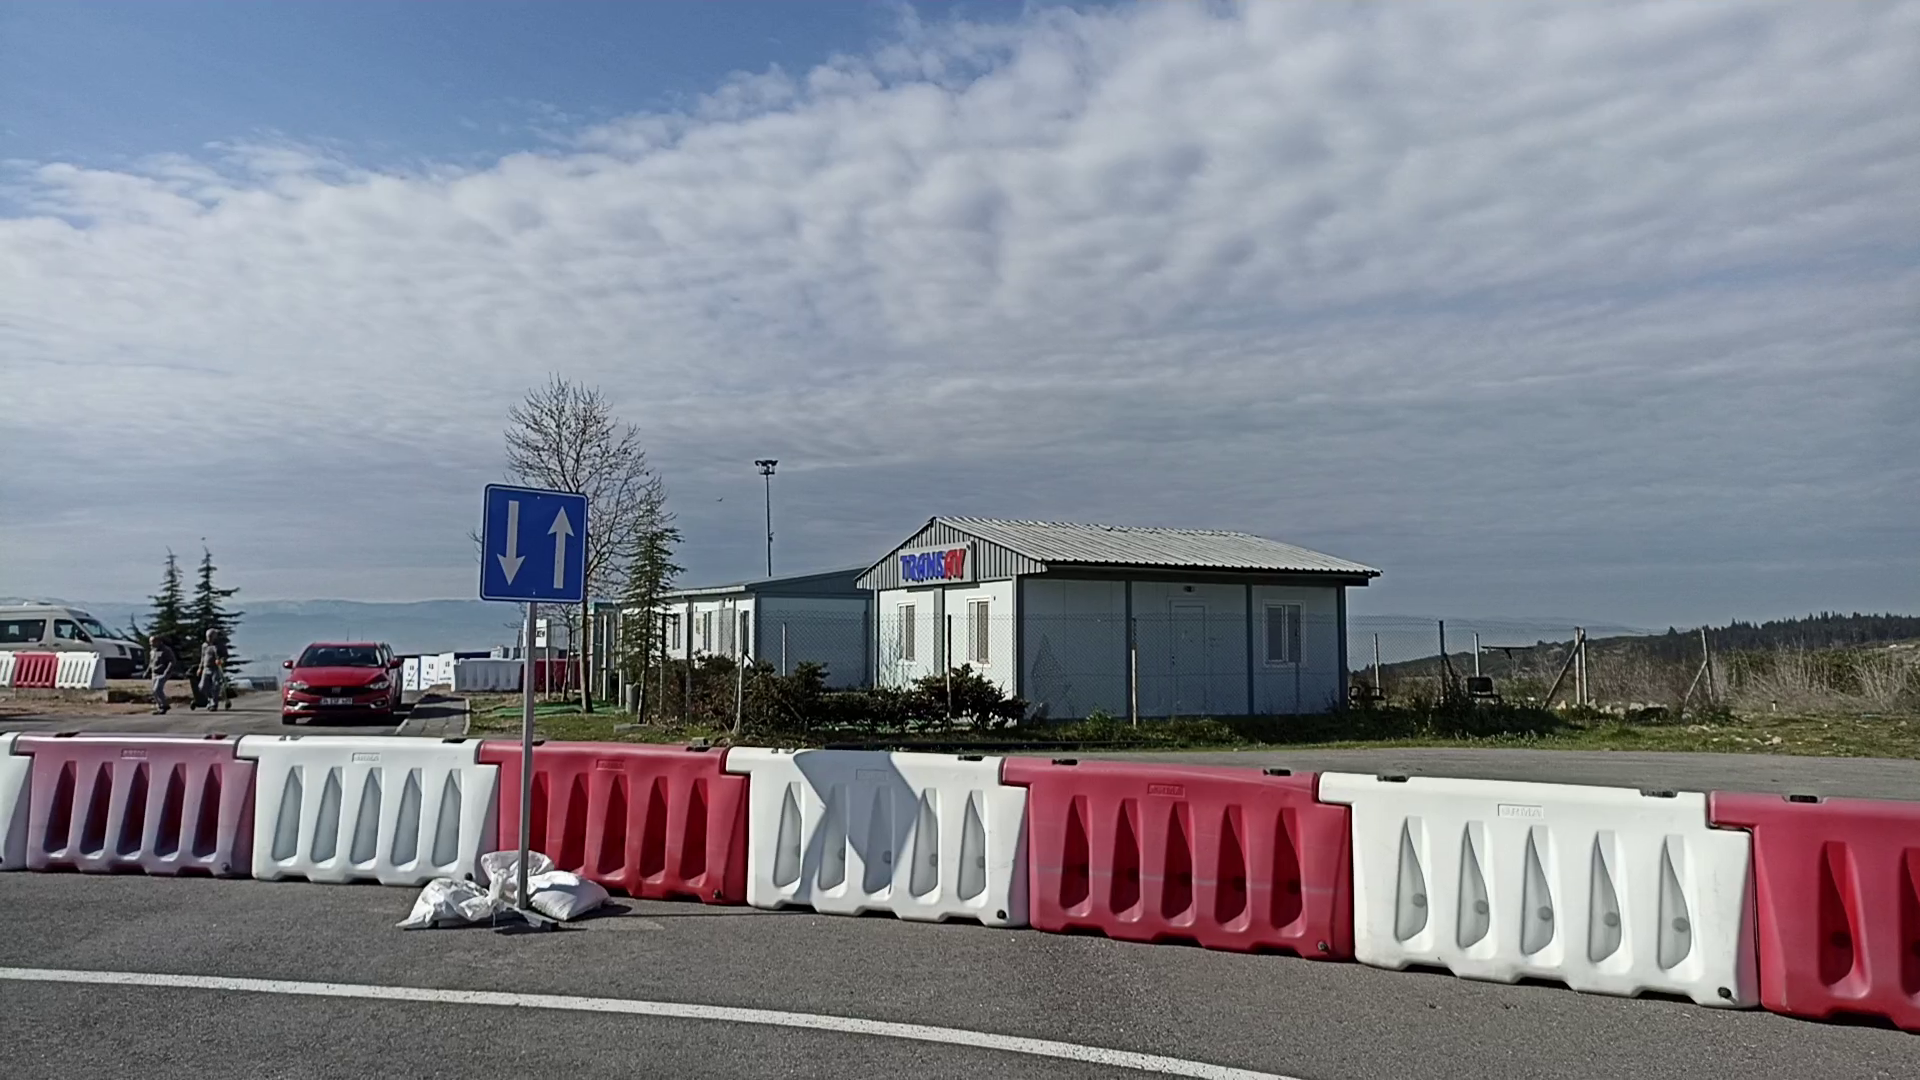oneway: (477, 481, 592, 607)
